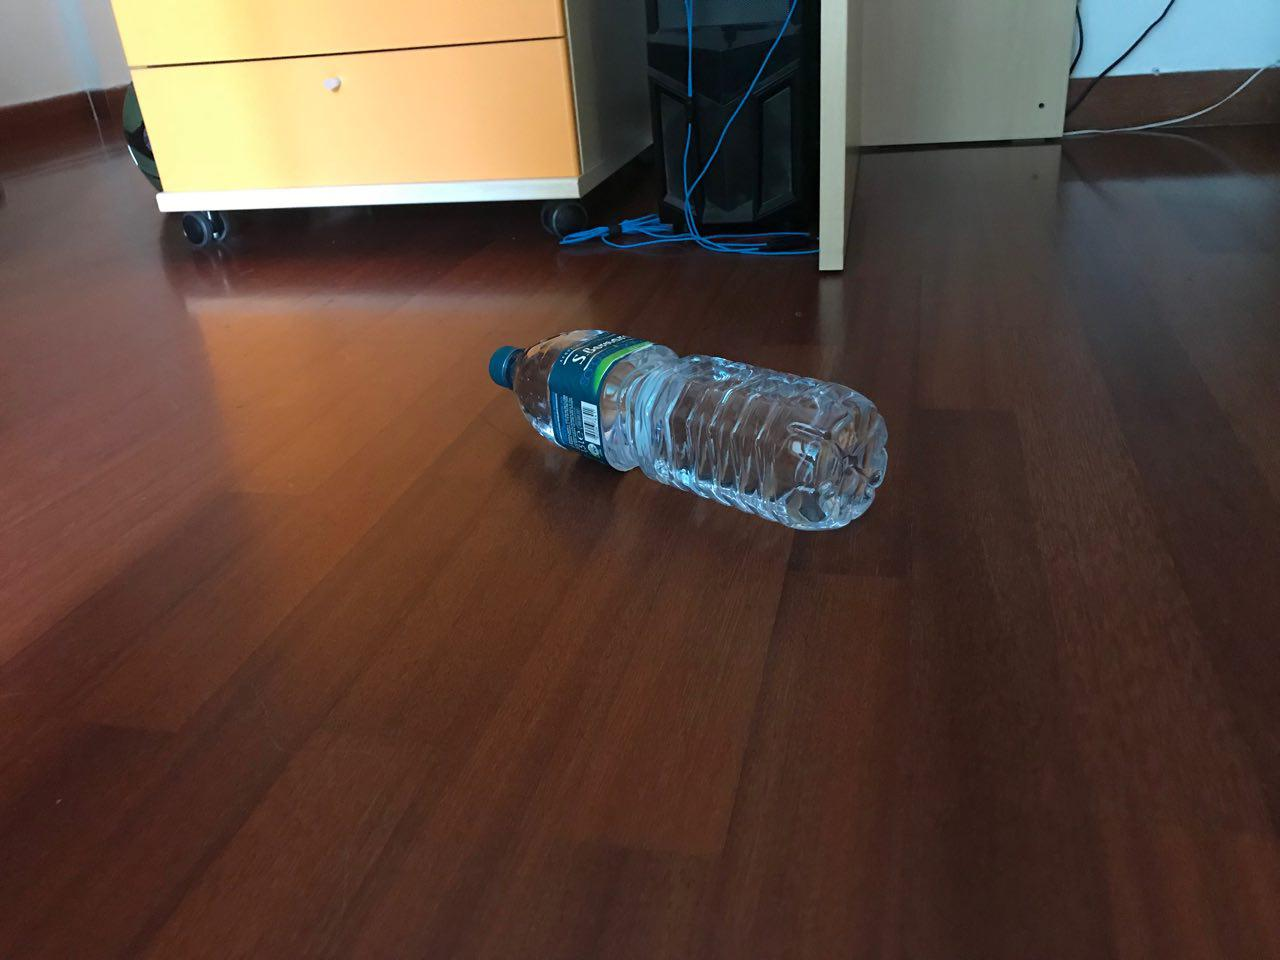san_bernardo: (486, 327, 890, 533)
